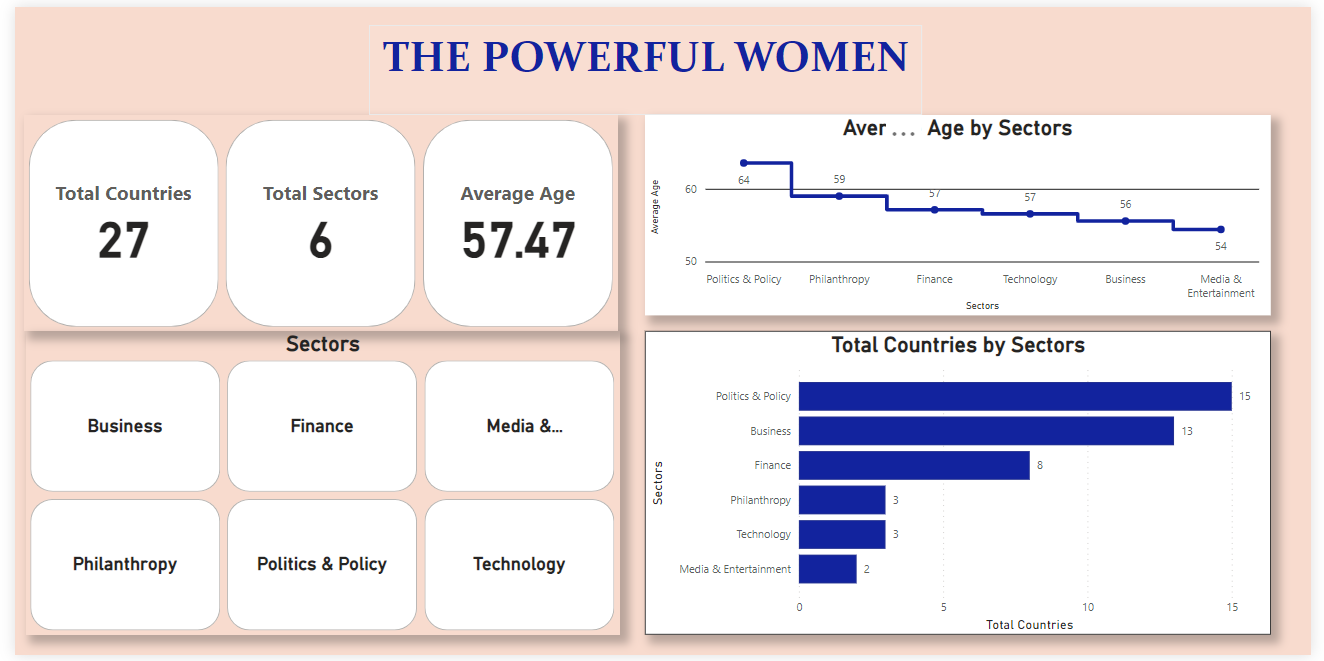

The dashboard page shown, as its layout file describes it:
{"tool":"powerbi","page":{"name":"Page 1","canvas":[1440,720],"ordinal":0},"visuals":[{"type":"barChart","fields":{"Y":["Table1.Total Countries"],"Category":["Table1.Sector"]},"box":[700,360,695,337.5],"z":0},{"type":"cardVisual","fields":{"Data":["Table1.Total Countries","Table1.Total Sector","Table1.Average Age"]},"box":[10,120,660,240],"z":1000},{"type":"advancedSlicerVisual","fields":{"Values":["Table1.Sector"]},"box":[10.9,359.4,660.9,337.5],"z":2000},{"type":"lineChart","fields":{"Category":["Table1.Sector"],"Y":["Table1.Average Age"]},"box":[700,120,695,222.5],"z":3000},{"type":"textbox","box":[392.5,20,615,100],"z":4000}]}

Visuals, with their boxes in screenshot pixels (x1, y1, x2, y2), scaled from the page's 1440x720 canvas onto the 1324x661 screenshot:
barChart - Table1.Total Countries x Table1.Sector: region(644, 330, 1283, 640)
cardVisual - Table1.Total Countries x Table1.Total Sector: region(9, 110, 616, 330)
advancedSlicerVisual - Table1.Sector: region(10, 330, 618, 640)
lineChart - Table1.Sector x Table1.Average Age: region(644, 110, 1283, 314)
textbox: region(361, 18, 926, 110)
